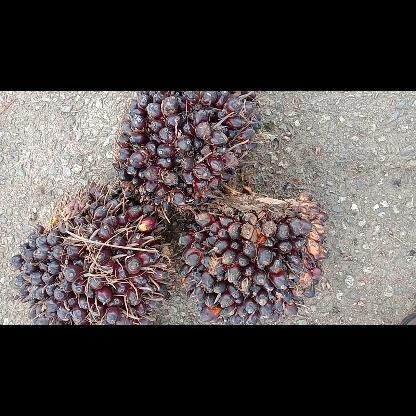TBS mentah: (11, 182, 171, 324), (178, 188, 328, 324), (113, 91, 260, 215)
